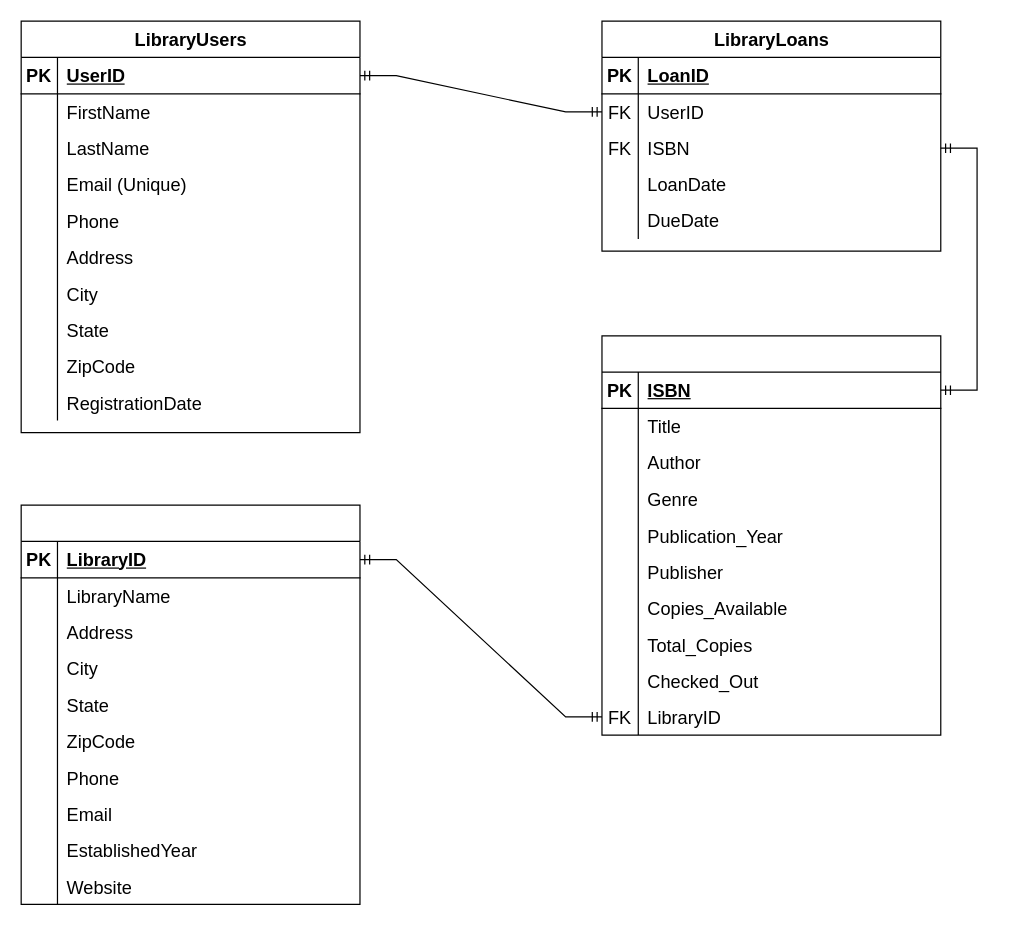
Some shapes in this 1009 by 926 pixel diagram are drawn without their labels. The box of each missing label's shape, as (x1, y1, x2, y2) in pixels:
Libraries: (20, 504, 360, 904)
LibraryBooks: (601, 335, 941, 735)
